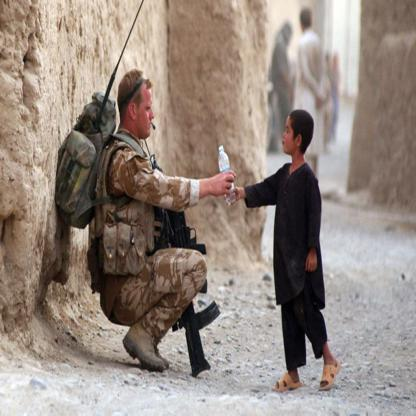face: (136, 90, 156, 138), (283, 119, 297, 154), (285, 31, 292, 43)
